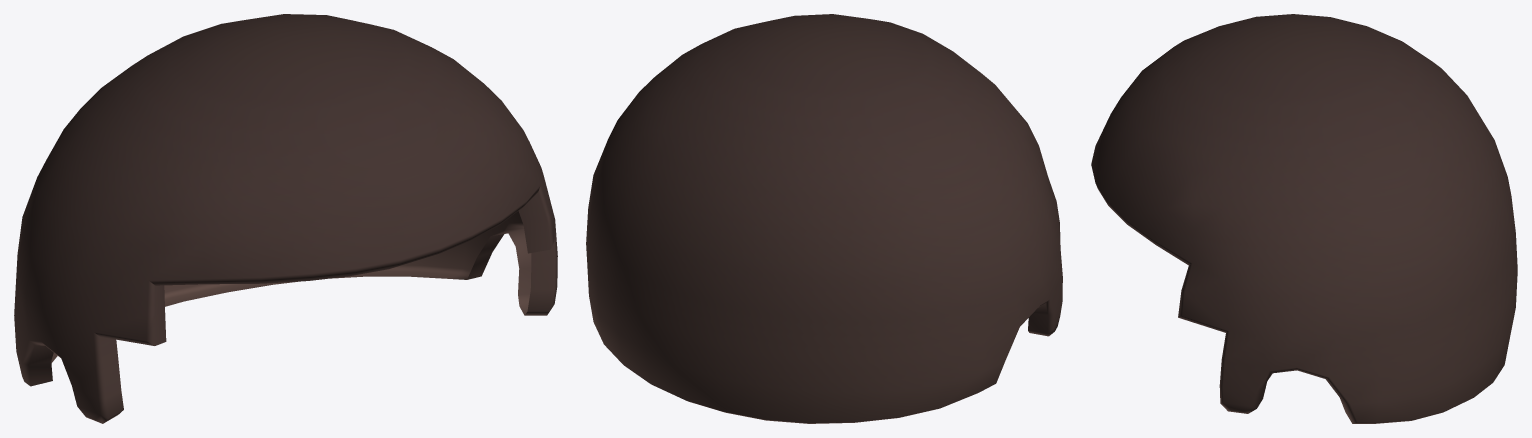
The model's file is Hairstyle_Male_14.glb.
3 views of the same model, side by side, from view 1: azimuth 30°, elevation 25°; view 2: azimuth 150°, elevation 25°; view 3: azimuth 270°, elevation 25° (orthographic). The views are drawn at different scales.
Parts seen in each view (by area): view 1: Hairstyle_Male_14; view 2: Hairstyle_Male_14; view 3: Hairstyle_Male_14.
Part boxes in pixels (x1=…): Hairstyle_Male_14: x1=14, y1=14, x2=557, y2=423; Hairstyle_Male_14: x1=586, y1=14, x2=1062, y2=423; Hairstyle_Male_14: x1=1091, y1=14, x2=1517, y2=423.
Bounding box in the file's own units: 0.6043 × 0.4035 × 0.5039.
1 material, 1 textured.
